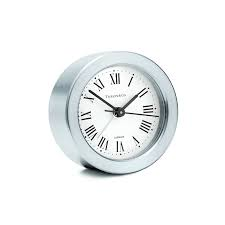alarm_clock: (46, 47, 182, 175), (46, 53, 182, 175)
